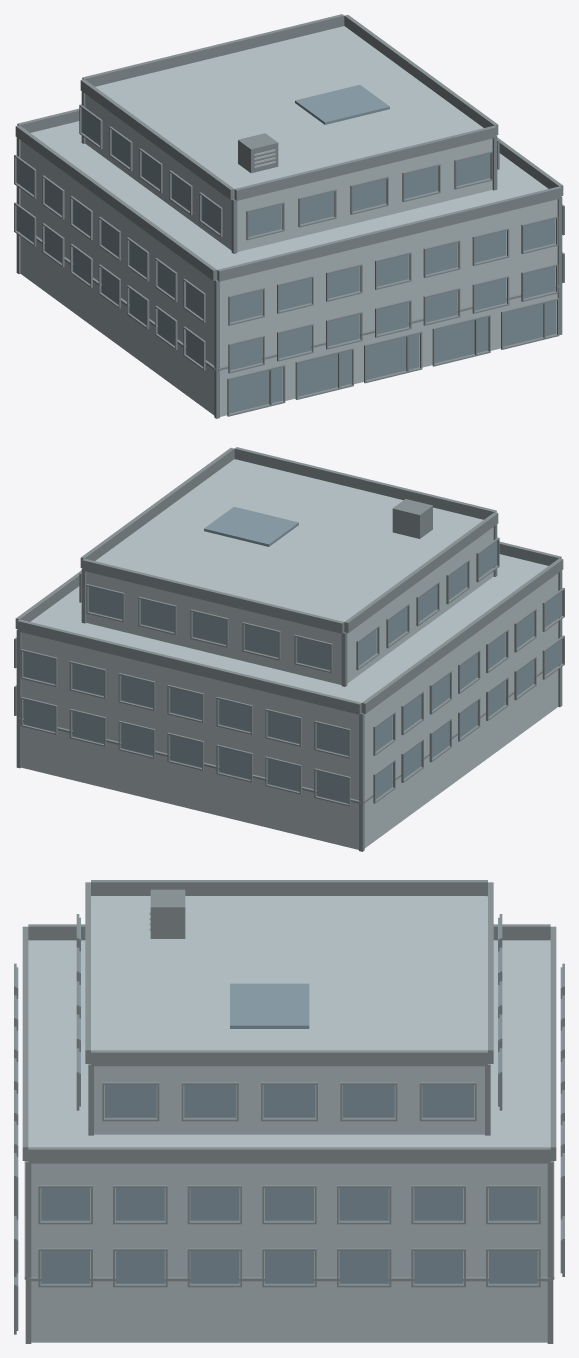
The model's file is lot_3x3_slab.glb.
3 views of the same model, one above another, from view 1: azimuth 30°, elevation 25°; view 2: azimuth 150°, elevation 25°; view 3: azimuth 270°, elevation 25° (orthographic). The views are drawn at different scales.
Visible parts, largest first — view 1: lot_3x3_slab; view 2: lot_3x3_slab; view 3: lot_3x3_slab.
Boxes of the visible parts, x1,y1,x2,y2 form: lot_3x3_slab: (14, 14, 564, 418); lot_3x3_slab: (14, 447, 564, 851); lot_3x3_slab: (14, 880, 564, 1343).
Bounding box in the file's own units: 23.74 × 13.5 × 23.74.
